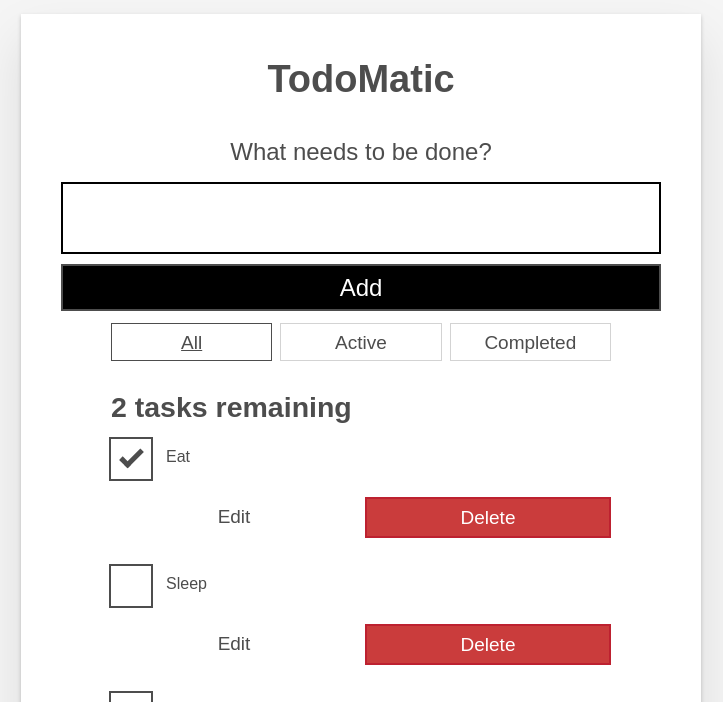
Editing a Task › Editing a task
Click the button with test id "edit-button-todo-1". click: click(234, 645)
box: [111,624,357,665]
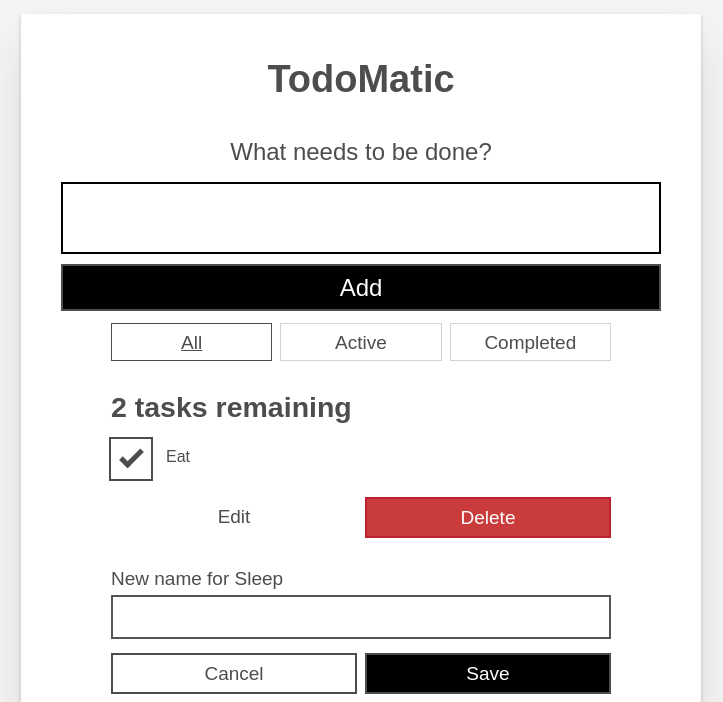
Type "New Task to be completed" into the field with test id "edit-input-todo-1". click: (361, 617)
box: [111,595,611,639]
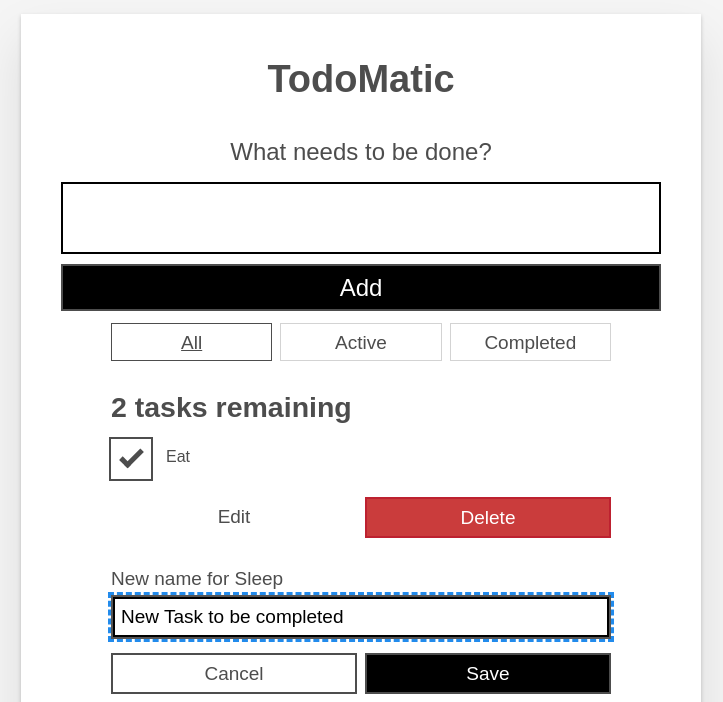
Click the button with test id "save-new-todo-1". click: click(488, 674)
box: [365,653,611,694]
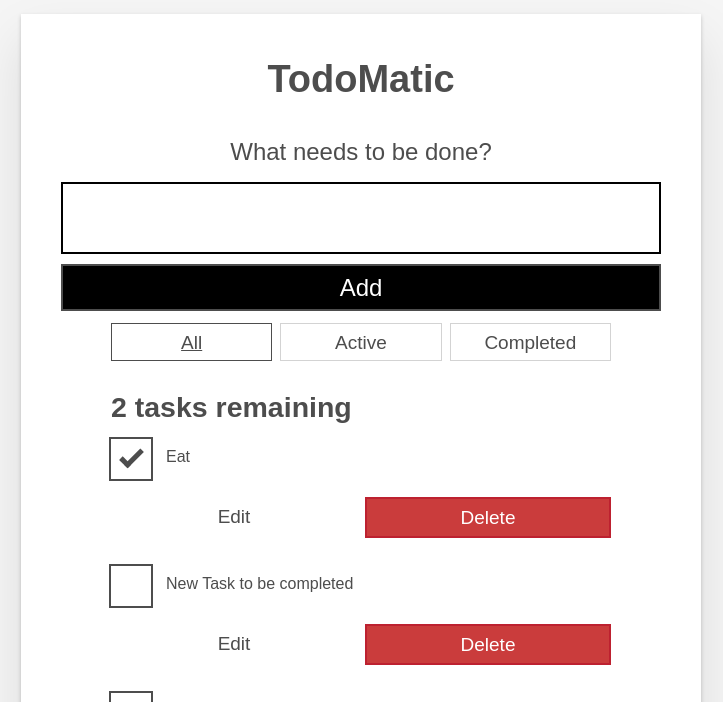
Now the checkbox "New Task to be completed" is shown, box [166,575,353,592]
